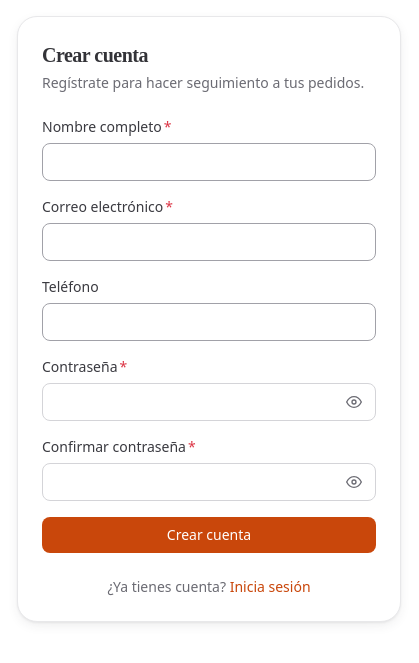
RegisterPage › valida que las contraseñas coincidan
In the field labelled "Nombre completo*": (209, 162) [42,143,376,181], type "Ana Pérez"
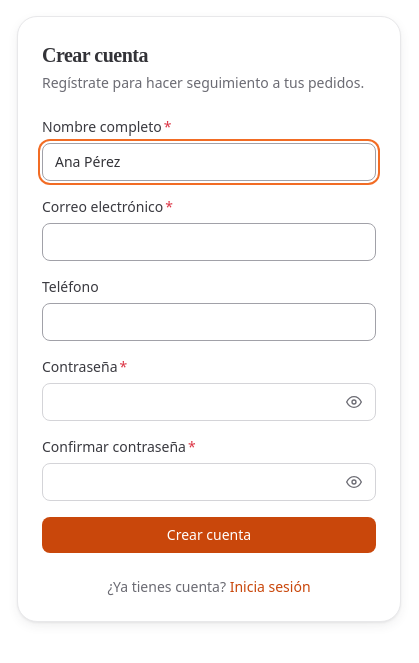
In the field labelled "Correo electrónico*": (209, 242) [42,223,376,261], type "ana@example.com"
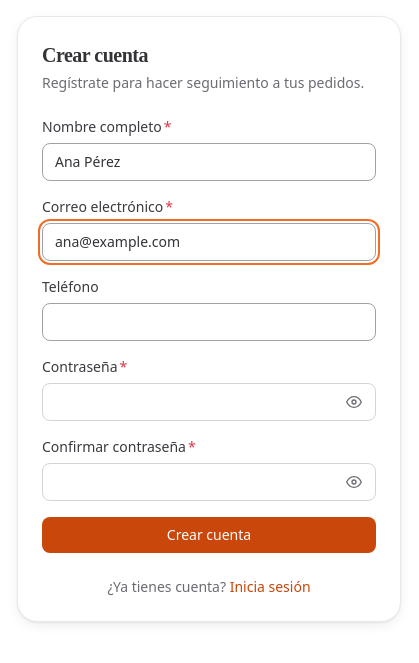
In the password field labelled "Contraseña*": (209, 402) [42,383,376,421], type "secreto123"
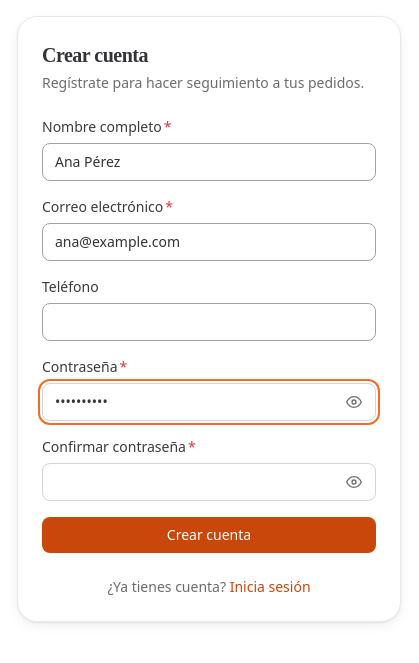
In the password field labelled "Confirmar contraseña*": (209, 482) [42,463,376,501], type "otradistinta"
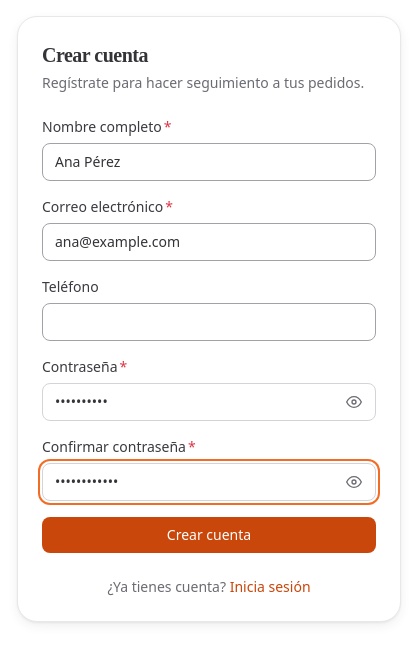
Click the button "Crear cuenta": (209, 535) [42,517,376,553]
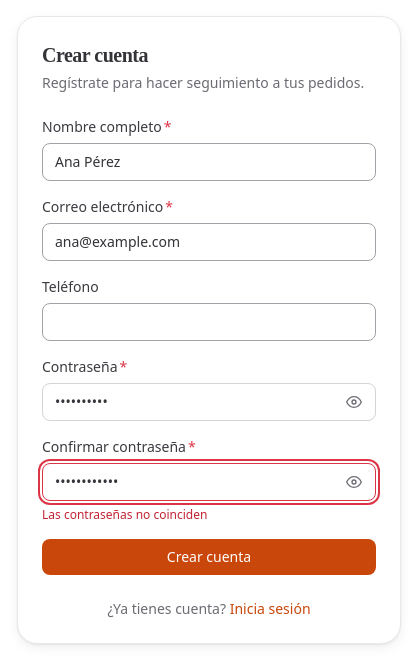
Expected: the text "Las contraseñas no coinciden" is shown, [42,506,207,523]
